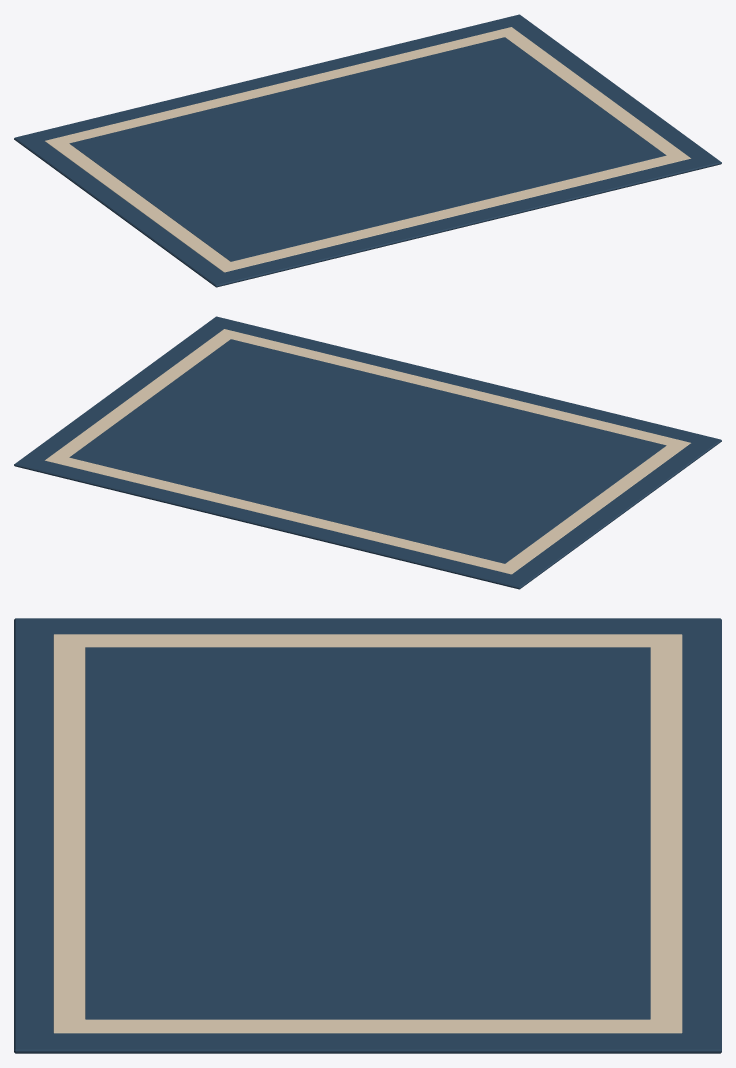
Rendered from i_rug_9.glb.
The picture shows the model from 3 angles, top to bottom: view 1: azimuth 30°, elevation 25°; view 2: azimuth 150°, elevation 25°; view 3: azimuth 270°, elevation 25°; orthographic projection. The views are drawn at different scales.
Parts seen in each view (by area): view 1: o.002, o, o.001; view 2: o.002, o, o.001; view 3: o.002, o, o.001.
Boxes of the visible parts, x1=… form: o.002: x1=69, y1=37, x2=666, y2=261; o: x1=14, y1=14, x2=721, y2=287; o.001: x1=45, y1=27, x2=690, y2=272; o.002: x1=69, y1=339, x2=666, y2=563; o: x1=14, y1=316, x2=721, y2=589; o.001: x1=45, y1=329, x2=690, y2=574; o.002: x1=85, y1=647, x2=650, y2=1019; o: x1=14, y1=618, x2=721, y2=1053; o.001: x1=53, y1=634, x2=682, y2=1033.
Size of the model in its own units: 2.6 by 0.014 by 1.8.
